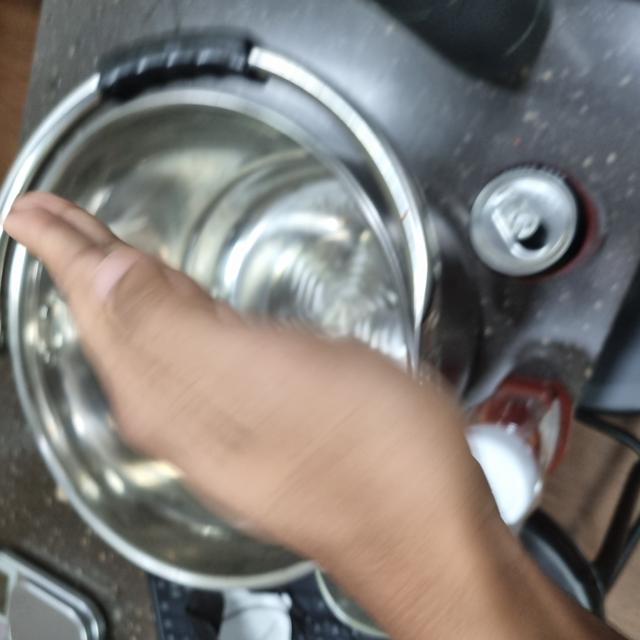Paper: (32, 11, 440, 497)
